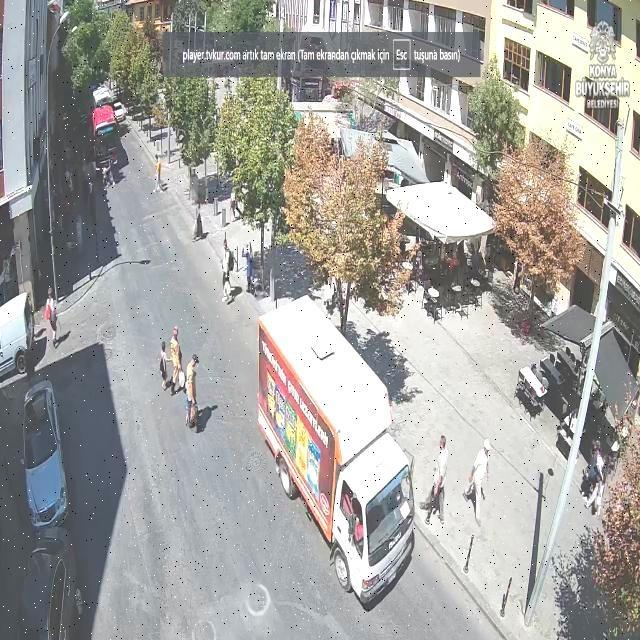Truck: (258, 295, 418, 603)
